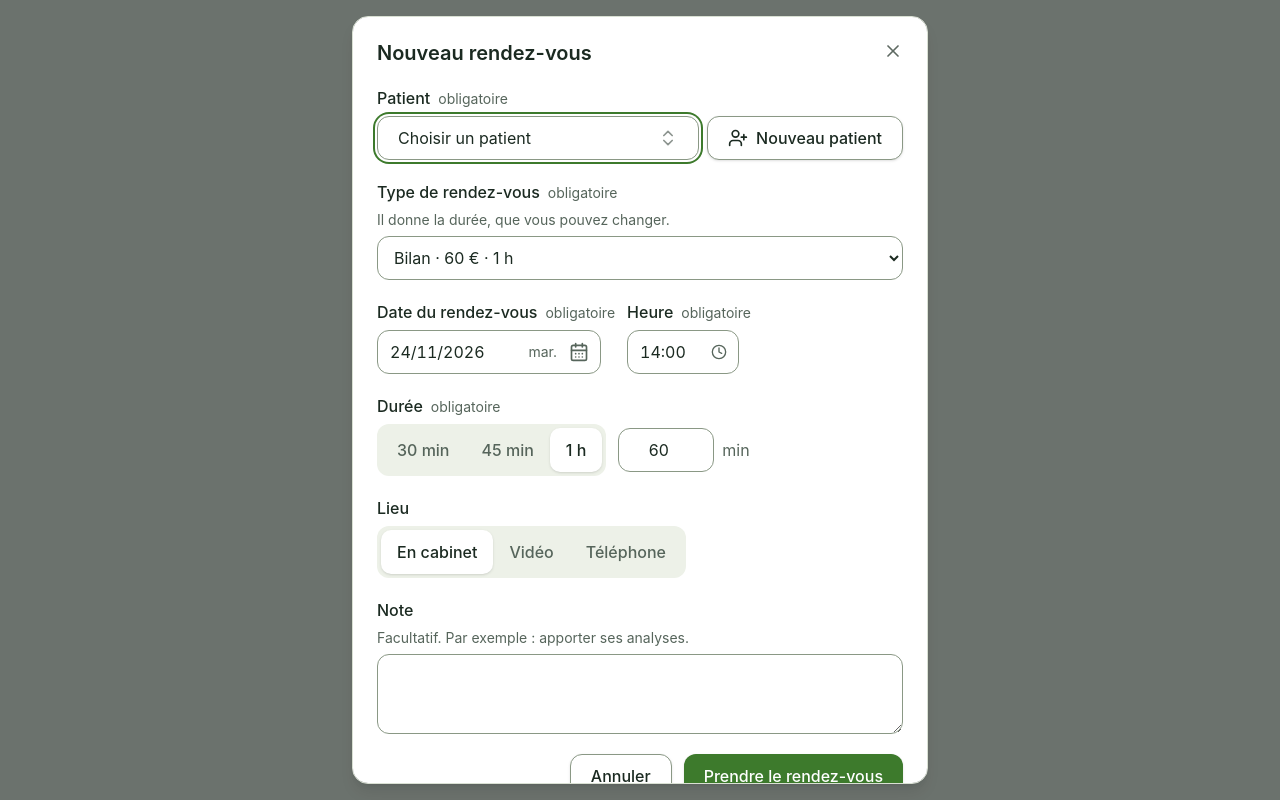
AppointmentFormDialog: type of appointment and practice (lot 15) › prefills the suggested type and duration for the selected patient
Expected: the number field named "Durée en minutes" holds "60", [618,428,714,472]
Select "Suivi · 50 € · 45 min" in the dropdown labelled "Type de rendez-vous obligatoire". click: [640, 258]
box: [377,236,903,280]
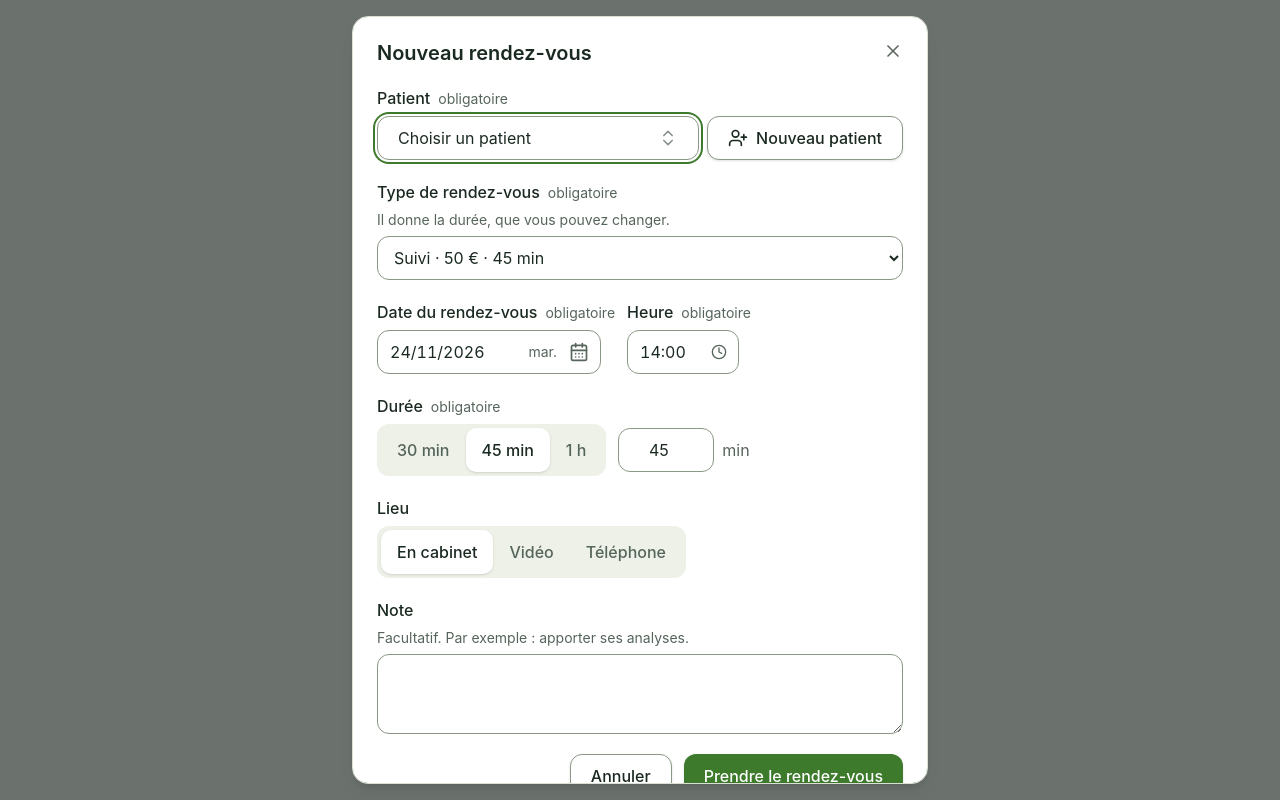
Now the number field named "Durée en minutes" holds "45", box [618,428,714,472]
